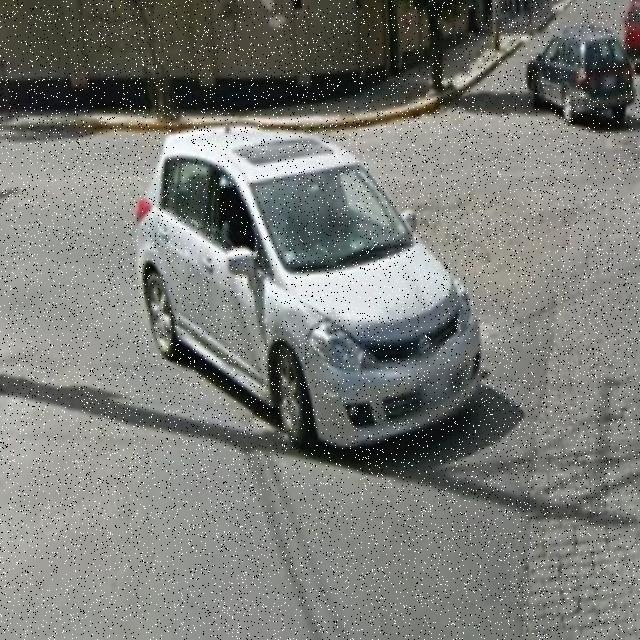cars: (140, 118, 487, 451)
